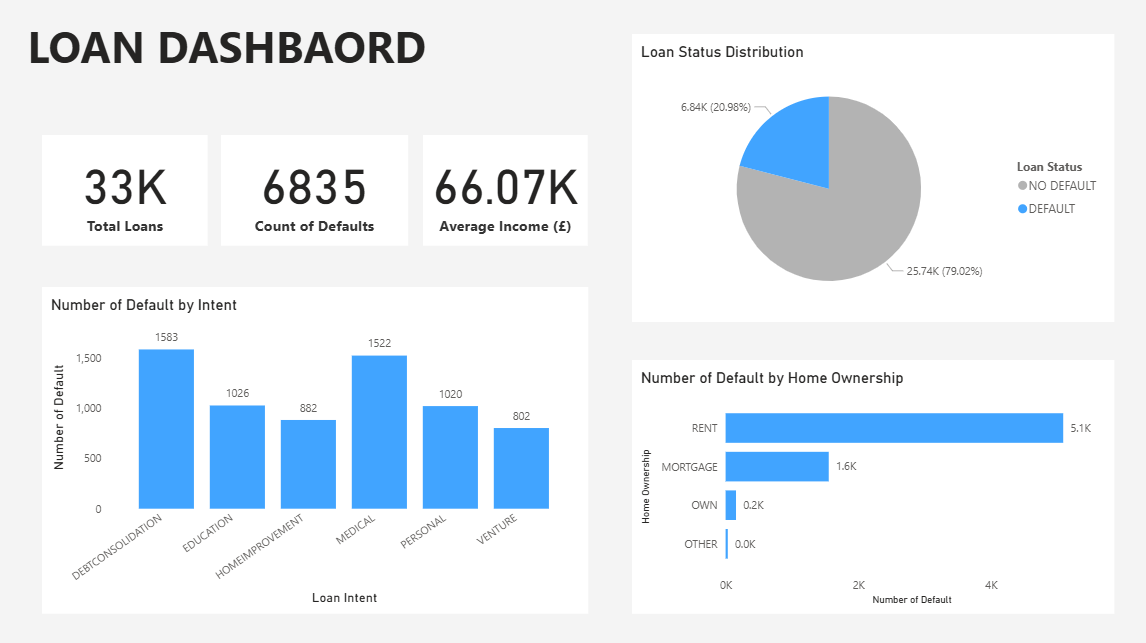

This screenshot's page, from the dashboard's own definition file:
{"tool":"powerbi","page":{"name":"Dashboard","canvas":[1280,720],"ordinal":0},"visuals":[{"type":"barChart","title":"Number of Default by Home Ownership","fields":{"Category":["LoanDataset_cleaned.home_ownership"],"Y":["CountNonNull(LoanDataset_cleaned.Current_loan_status)"],"Series":["LoanDataset_cleaned.Current_loan_status"]},"box":[705.6,402.2,535.6,282.2],"z":0},{"type":"columnChart","title":"Number of Default by Intent","fields":{"Y":["CountNonNull(LoanDataset_cleaned.Current_loan_status)"],"Category":["LoanDataset_cleaned.loan_intent Hierarchy.loan_intent","LoanDataset_cleaned.loan_intent Hierarchy.loan_grade"],"Series":["LoanDataset_cleaned.Current_loan_status"]},"box":[50,321.1,606.7,363.3],"z":1000},{"type":"pieChart","title":"Loan Status Distribution","fields":{"Category":["LoanDataset_cleaned.Current_loan_status"],"Y":["CountNonNull(LoanDataset_cleaned.Current_loan_status)"]},"box":[705.6,40,535.6,320],"z":2000},{"type":"card","fields":{"Values":["LoanDataset_cleaned.Count of Defaults"]},"box":[248.9,152.2,207.8,123.3],"z":4000},{"type":"card","fields":{"Values":["LoanDataset_cleaned.Total Loans"]},"box":[50,152.2,184.4,123.3],"z":4001},{"type":"textbox","box":[28.9,15.6,456.7,81.1],"z":4002},{"type":"card","fields":{"Values":["LoanDataset_cleaned.Average Income (£)"]},"box":[473.3,152.2,183.3,123.3],"z":4003}]}

Visuals, with their boxes in screenshot pixels (x1, y1, x2, y2), scaled from the page's 1280x720 canvas onto the 1146x643 screenshot:
"Number of Default by Home Ownership" barChart: bbox=[632, 359, 1111, 611]
"Number of Default by Intent" columnChart: bbox=[45, 287, 588, 611]
"Loan Status Distribution" pieChart: bbox=[632, 36, 1111, 322]
card - LoanDataset_cleaned.Count of Defaults: bbox=[223, 136, 409, 246]
card - LoanDataset_cleaned.Total Loans: bbox=[45, 136, 210, 246]
textbox: bbox=[26, 14, 435, 86]
card - LoanDataset_cleaned.Average Income (£): bbox=[424, 136, 588, 246]
